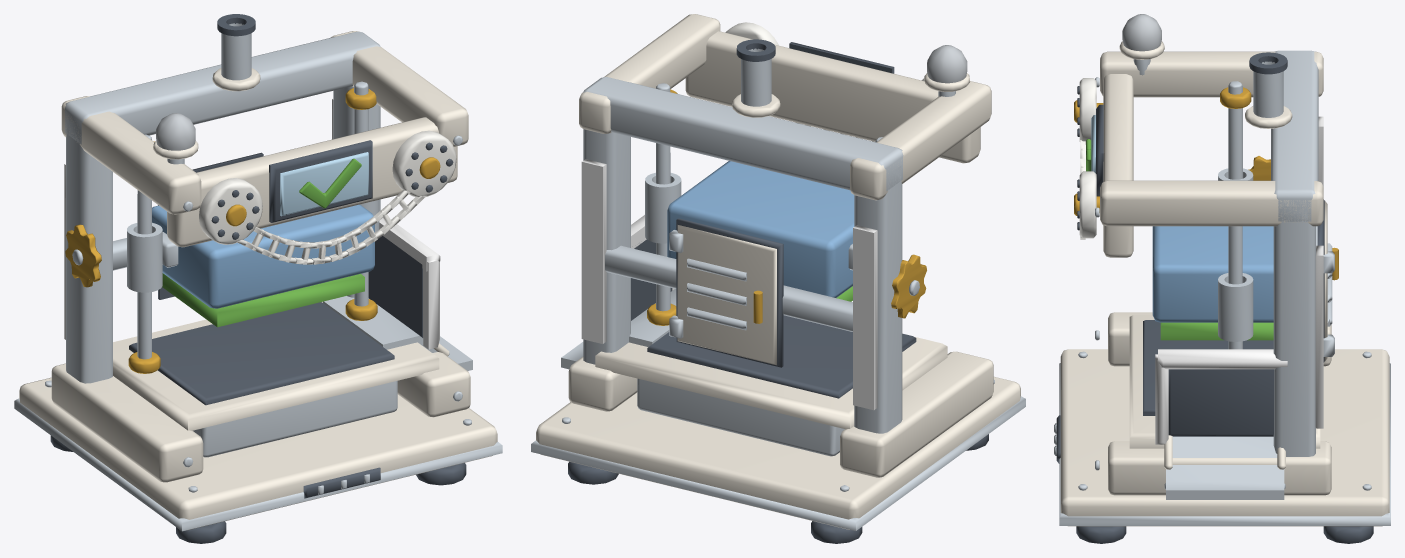
The model's file is machine_code.glb.
3 renders of one model, left to right at view 1: azimuth 30°, elevation 25°; view 2: azimuth 150°, elevation 25°; view 3: azimuth 270°, elevation 25°, orthographic. The views are drawn at different scales.
Parts seen in each view (by area): view 1: machine_code_structure, press, lamp; view 2: machine_code_structure, press, lamp; view 3: machine_code_structure, press, lamp.
Part boxes in pixels (x1,y1,x2,y2): machine_code_structure: (14, 14, 502, 543); press: (127, 200, 379, 327); lamp: (156, 113, 195, 150); machine_code_structure: (531, 14, 1025, 543); press: (645, 161, 854, 301); lamp: (927, 45, 967, 83); machine_code_structure: (1054, 41, 1390, 543); press: (1152, 168, 1273, 341); lamp: (1122, 14, 1161, 51).
Size of the model in its own units: 2.99 by 3.5 by 2.56.
